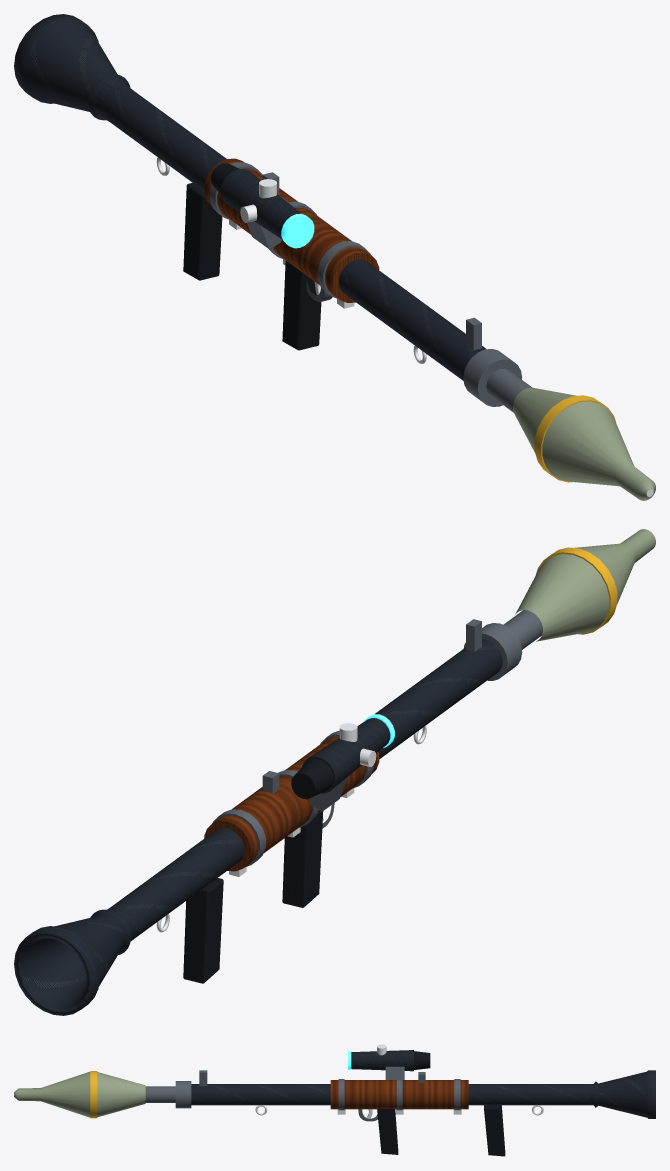
Rendered from rpg7_launcher.glb.
3 renders of one model, top to bottom at view 1: azimuth 30°, elevation 25°; view 2: azimuth 150°, elevation 25°; view 3: azimuth 270°, elevation 25°, orthographic. The views are drawn at different scales.
Parts seen in each view (by area): view 1: RPG7_Tube_metalPrimary, RPG7_Warhead_chassis, RPG7_Tube_polymer, RPG7_Tube_metalDark, RPG7_Tube_wood, RPG7_Tube_metalChrome, RPG7_Warhead_metalDark, RPG7_Warhead_accent, RPG7_Tube_lens; view 2: RPG7_Tube_metalPrimary, RPG7_Tube_polymer, RPG7_Warhead_chassis, RPG7_Tube_wood, RPG7_Tube_metalDark, RPG7_Tube_metalChrome, RPG7_Warhead_accent, RPG7_Warhead_metalDark; view 3: RPG7_Tube_metalPrimary, RPG7_Tube_wood, RPG7_Warhead_chassis, RPG7_Tube_polymer, RPG7_Tube_metalDark, RPG7_Warhead_metalDark, RPG7_Tube_metalChrome, RPG7_Warhead_accent.
Boxes of the visible parts, box(x1,y1,x2,y2) form: RPG7_Tube_metalPrimary: box(14, 14, 486, 380); RPG7_Warhead_chassis: box(513, 387, 655, 500); RPG7_Tube_polymer: box(183, 163, 321, 350); RPG7_Tube_metalDark: box(210, 162, 522, 406); RPG7_Tube_wood: box(204, 158, 379, 302); RPG7_Tube_metalChrome: box(156, 157, 426, 363); RPG7_Warhead_metalDark: box(486, 368, 531, 412); RPG7_Warhead_accent: box(534, 395, 616, 482); RPG7_Tube_lens: box(281, 213, 314, 248); RPG7_Tube_metalPrimary: box(14, 639, 502, 1015); RPG7_Tube_polymer: box(183, 759, 333, 983); RPG7_Warhead_chassis: box(515, 529, 655, 641); RPG7_Tube_wood: box(204, 736, 379, 871); RPG7_Tube_metalDark: box(212, 619, 522, 867); RPG7_Tube_metalChrome: box(156, 723, 426, 932); RPG7_Warhead_accent: box(536, 547, 617, 634); RPG7_Warhead_metalDark: box(503, 610, 542, 649); RPG7_Tube_metalPrimary: box(191, 1050, 655, 1118); RPG7_Tube_wood: box(330, 1080, 468, 1109); RPG7_Warhead_chassis: box(14, 1071, 145, 1117); RPG7_Tube_polymer: box(377, 1051, 505, 1156); RPG7_Tube_metalDark: box(175, 1066, 460, 1121); RPG7_Warhead_metalDark: box(145, 1086, 175, 1102); RPG7_Tube_metalChrome: box(255, 1044, 543, 1118); RPG7_Warhead_accent: box(90, 1071, 97, 1118).
Bounding box in the file's own units: 0.144 × 0.24 × 1.44.
Materials: 8 (3 with a texture image).
